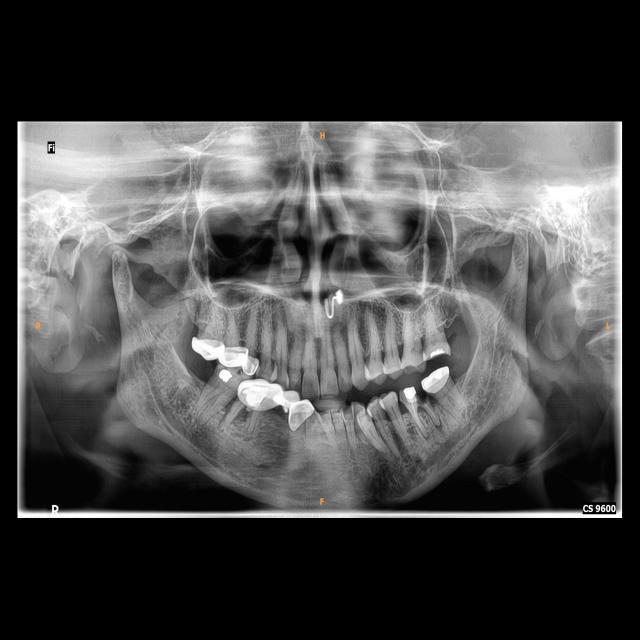dentin-curugu: (414, 388, 432, 413), (338, 400, 356, 423)
dolgu: (213, 364, 238, 396), (398, 383, 422, 409), (424, 344, 454, 364)
kaplama: (238, 377, 283, 416), (419, 364, 456, 398), (290, 397, 318, 432), (190, 334, 224, 360), (219, 340, 250, 368)
